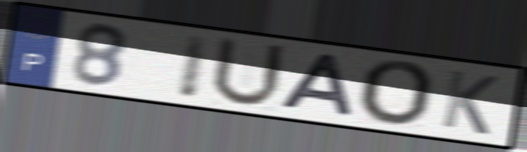8: (69, 21, 130, 89)
A: (276, 51, 357, 120)
I: (175, 32, 213, 101)
K: (438, 67, 501, 138)
O: (358, 58, 440, 130)
U: (207, 34, 290, 110)
